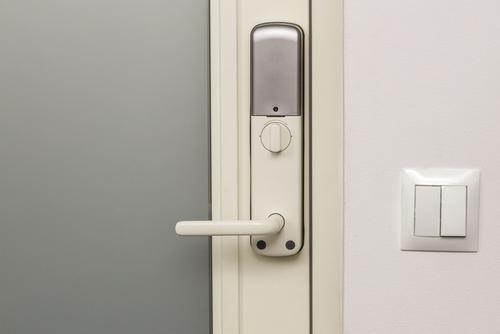handle: (172, 20, 306, 263)
